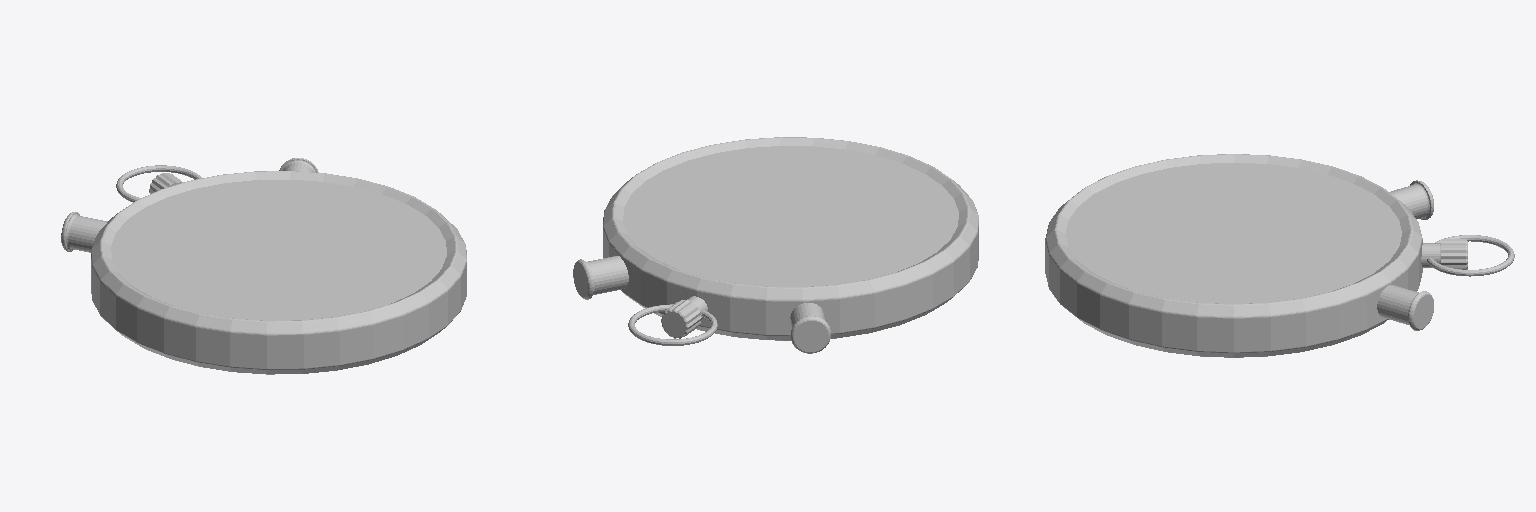
File: StopWatch.obj
The picture shows the model from 3 angles: view 1: azimuth 30°, elevation 25°; view 2: azimuth 150°, elevation 25°; view 3: azimuth 270°, elevation 25°; orthographic projection.
Visible parts, largest first — view 1: Cylinder; view 2: Cylinder; view 3: Cylinder.
Boxes of the visible parts, <box> form: Cylinder: <box>61,158,466,374</box>; Cylinder: <box>573,137,978,353</box>; Cylinder: <box>1045,154,1514,357</box>.
Size of the model in its own units: 0.4264 by 0.0667 by 0.5305.